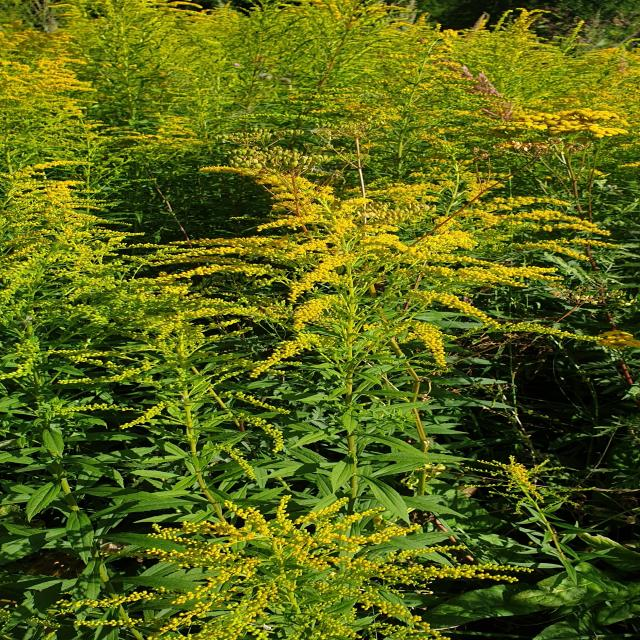ambrosia: (193, 174, 575, 390), (94, 481, 521, 640), (11, 144, 150, 346)
